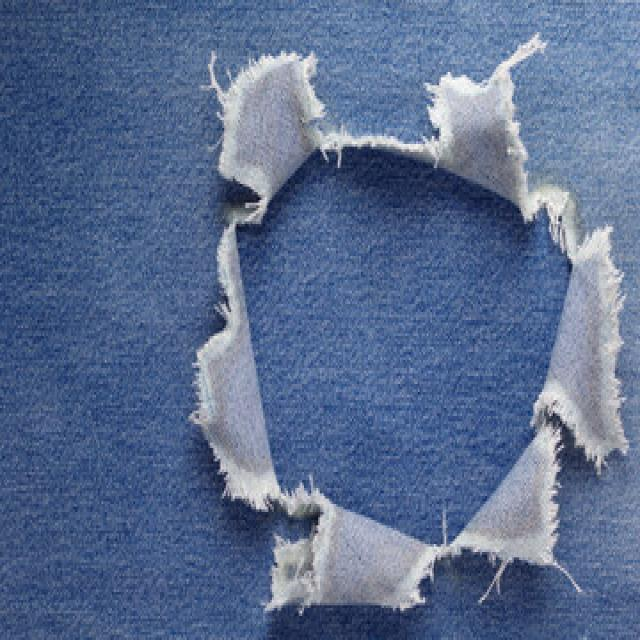Hole: (191, 34, 629, 611)
